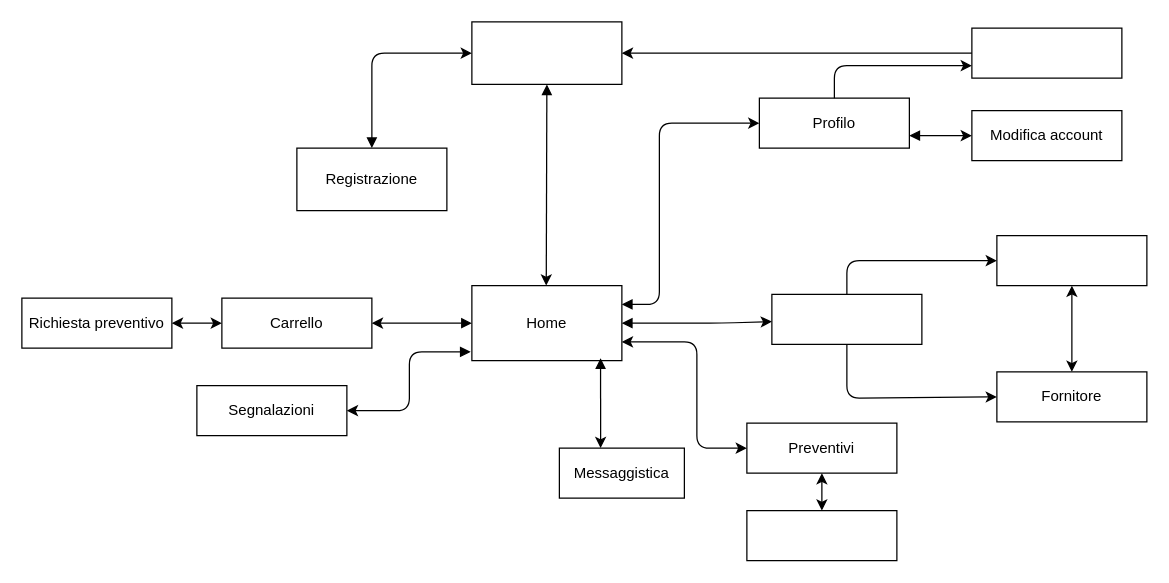
This 1169x583 diagram has some shape labels left out. The centre of each missing label's shape, as x and y in pixels:
"Elimina account" goes at (x=1046, y=52).
"Login" goes at (x=546, y=52).
"Preventivo" goes at (x=821, y=535).
"Prodotto" goes at (x=1071, y=260).
"Ricerca" goes at (x=846, y=318).
